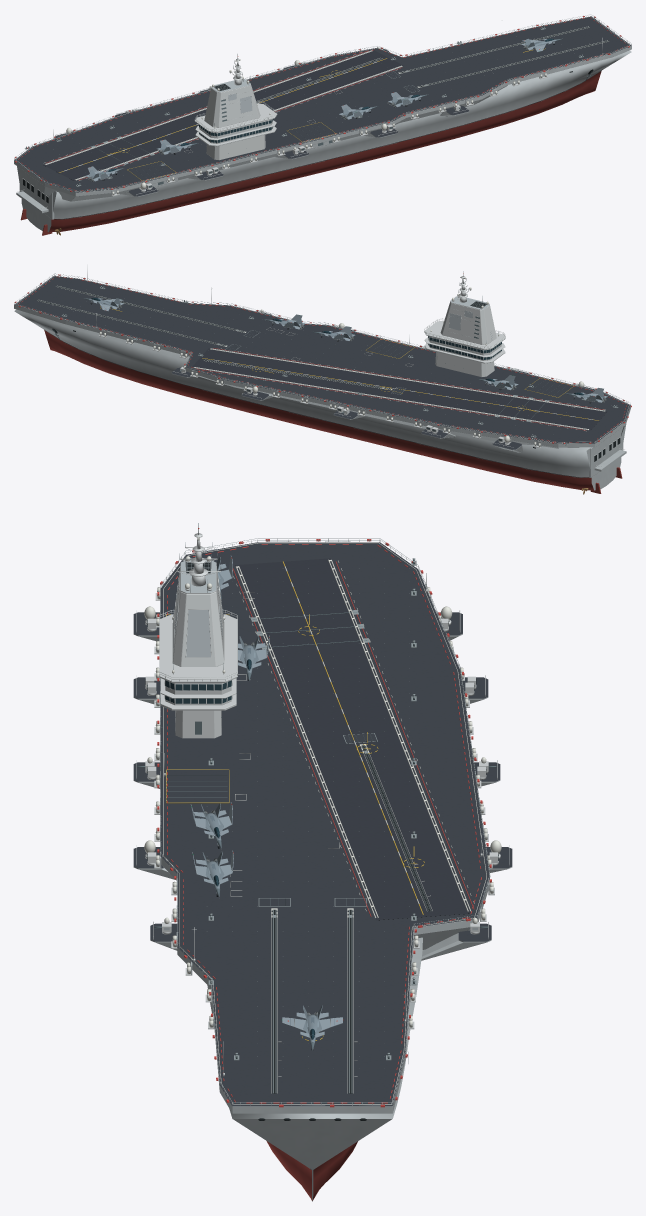
Rendered from shipModelData-fujian.glb.
The picture shows the model from 3 angles, top to bottom: view 1: azimuth 30°, elevation 25°; view 2: azimuth 150°, elevation 25°; view 3: azimuth 270°, elevation 25°; orthographic projection. The views are drawn at different scales.
Parts seen in each view (by area): view 1: 飞行甲板 | 非对称外轮廓, 船体 | 连续剖面、舰首外飘、红色船底, 斜角着舰区表面, 舰岛底座, 07 甲板标线与弹射轨道 | 甲板白线, 舰尾横板, 01 船体与水下外形 | 金属轨道, 01 船体与水下外形 | 开口与水线 | 炭黑 | 线径0.19, 04 桅杆与雷达外观 | 安全红线, 甲板边缘升降机, 战斗机 01 | 主翼内段, 顶部雷达天线 (+4 smaller); view 2: 飞行甲板 | 非对称外轮廓, 船体 | 连续剖面、舰首外飘、红色船底, 斜角着舰区表面, 舰岛底座, 07 甲板标线与弹射轨道 | 甲板白线, 舰尾横板, 01 船体与水下外形 | 金属轨道, 04 桅杆与雷达外观 | 安全红线, 01 船体与水下外形 | 开口与水线 | 炭黑 | 线径0.19, 甲板边缘升降机, 战斗机 01 | 主翼内段, 顶部雷达天线 (+3 smaller); view 3: 飞行甲板 | 非对称外轮廓, 斜角着舰区表面, 舰岛底座, 船体 | 连续剖面、舰首外飘、红色船底, 07 甲板标线与弹射轨道 | 甲板白线, 01 船体与水下外形 | 金属轨道, 甲板边缘升降机, 04 桅杆与雷达外观 | 安全红线, 01 船体与水下外形 | 开口与水线 | 炭黑 | 线径0.19, 顶部雷达天线, 舰尾横板, 战斗机 01 | 主翼内段 (+3 smaller).
Part boxes in pixels (x1,y1,x2,y2): 飞行甲板 | 非对称外轮廓: (14, 16, 631, 196); 船体 | 连续剖面、舰首外飘、红色船底: (17, 50, 631, 232); 斜角着舰区表面: (43, 50, 403, 180); 舰岛底座: (14, 16, 631, 208); 07 甲板标线与弹射轨道 | 甲板白线: (16, 16, 629, 191); 舰尾横板: (16, 54, 546, 219); 01 船体与水下外形 | 金属轨道: (14, 14, 631, 191); 01 船体与水下外形 | 开口与水线 | 炭黑 | 线径0.19: (23, 27, 608, 219); 04 桅杆与雷达外观 | 安全红线: (15, 16, 629, 192); 甲板边缘升降机: (127, 71, 419, 180); 战斗机 01 | 主翼内段: (85, 39, 554, 181); 顶部雷达天线: (66, 47, 546, 195); 飞行甲板 | 非对称外轮廓: (14, 275, 630, 450); 船体 | 连续剖面、舰首外飘、红色船底: (14, 309, 626, 490); 斜角着舰区表面: (192, 348, 607, 430); 舰岛底座: (14, 264, 626, 466); 07 甲板标线与弹射轨道 | 甲板白线: (15, 276, 629, 443); 舰尾横板: (100, 303, 626, 477); 01 船体与水下外形 | 金属轨道: (14, 271, 630, 445); 04 桅杆与雷达外观 | 安全红线: (14, 273, 631, 443); 01 船体与水下外形 | 开口与水线 | 炭黑 | 线径0.19: (37, 286, 620, 477); 甲板边缘升降机: (225, 330, 572, 397); 战斗机 01 | 主翼内段: (91, 298, 607, 402); 顶部雷达天线: (99, 277, 584, 446); 飞行甲板 | 非对称外轮廓: (133, 542, 512, 1113); 斜角着舰区表面: (235, 558, 471, 920); 舰岛底座: (136, 533, 509, 1105); 船体 | 连续剖面、舰首外飘、红色船底: (207, 937, 422, 1201); 07 甲板标线与弹射轨道 | 甲板白线: (163, 542, 486, 1104); 01 船体与水下外形 | 金属轨道: (160, 523, 489, 1105); 甲板边缘升降机: (166, 614, 376, 906); 04 桅杆与雷达外观 | 安全红线: (157, 528, 491, 1107); 01 船体与水下外形 | 开口与水线 | 炭黑 | 线径0.19: (145, 562, 498, 1169); 顶部雷达天线: (144, 537, 501, 1027); 舰尾横板: (138, 584, 506, 1028); 战斗机 01 | 主翼内段: (190, 556, 342, 1037).
Bounding box in the file's own units: 318 × 79.4 × 89.71.
Materials: 26 (4 with a texture image).
